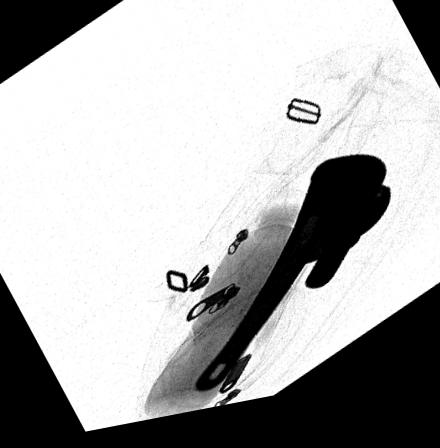Wrench: (192, 168, 392, 400)
